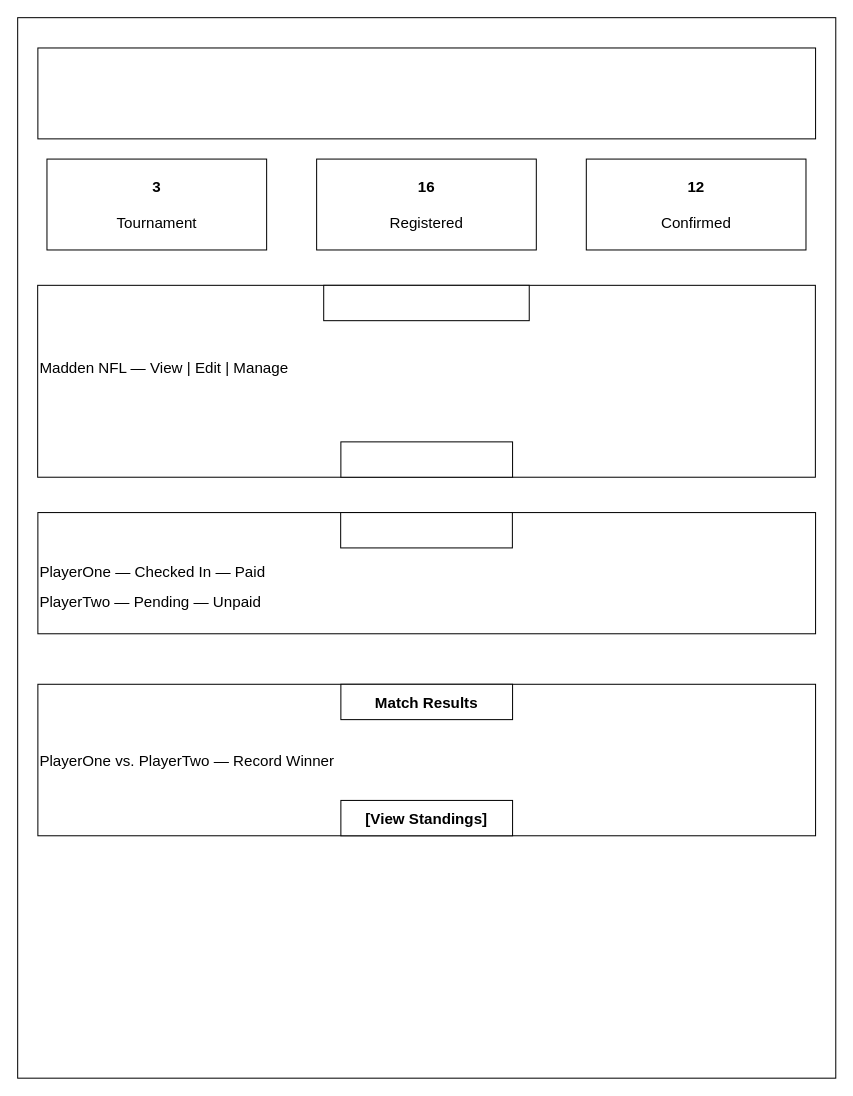
This 853x1096 diagram has some shape labels left out. Each missing label, with the centre of its shape:
"[Create Tournament]" belongs at (x=426, y=459).
"MEL Organizer Dashboard Dashboard | Tournaments | Players | Results | Logout" belongs at (x=426, y=93).
"Player Check-In" belongs at (x=426, y=530).
"Tournament Management" belongs at (x=426, y=302).
